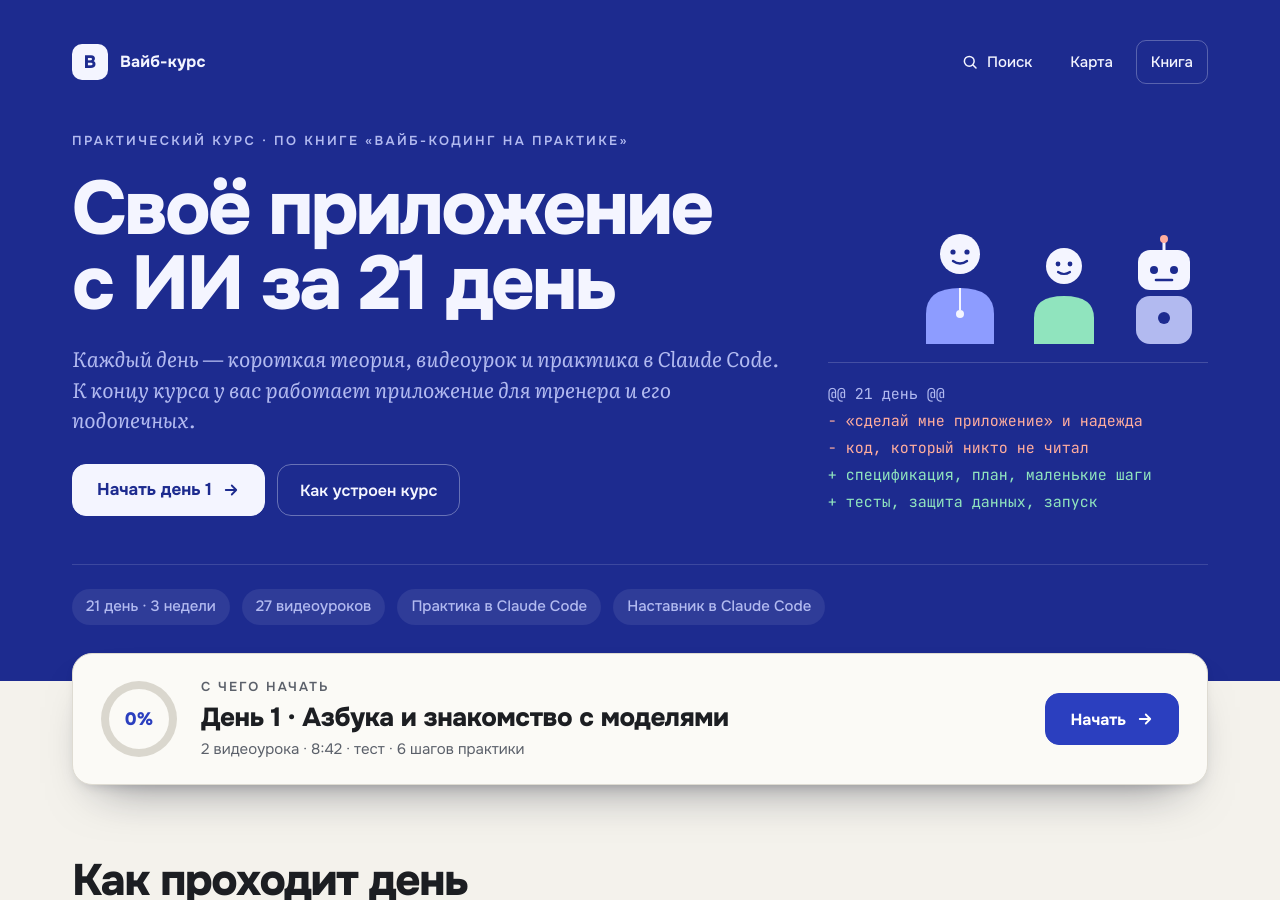
it: окно поиска: открытие и закрытие › «Закрыть» и клик по затемнению закрывают окно
Click the button "Поиск". click: (997, 62)
box: [946,40,1047,84]
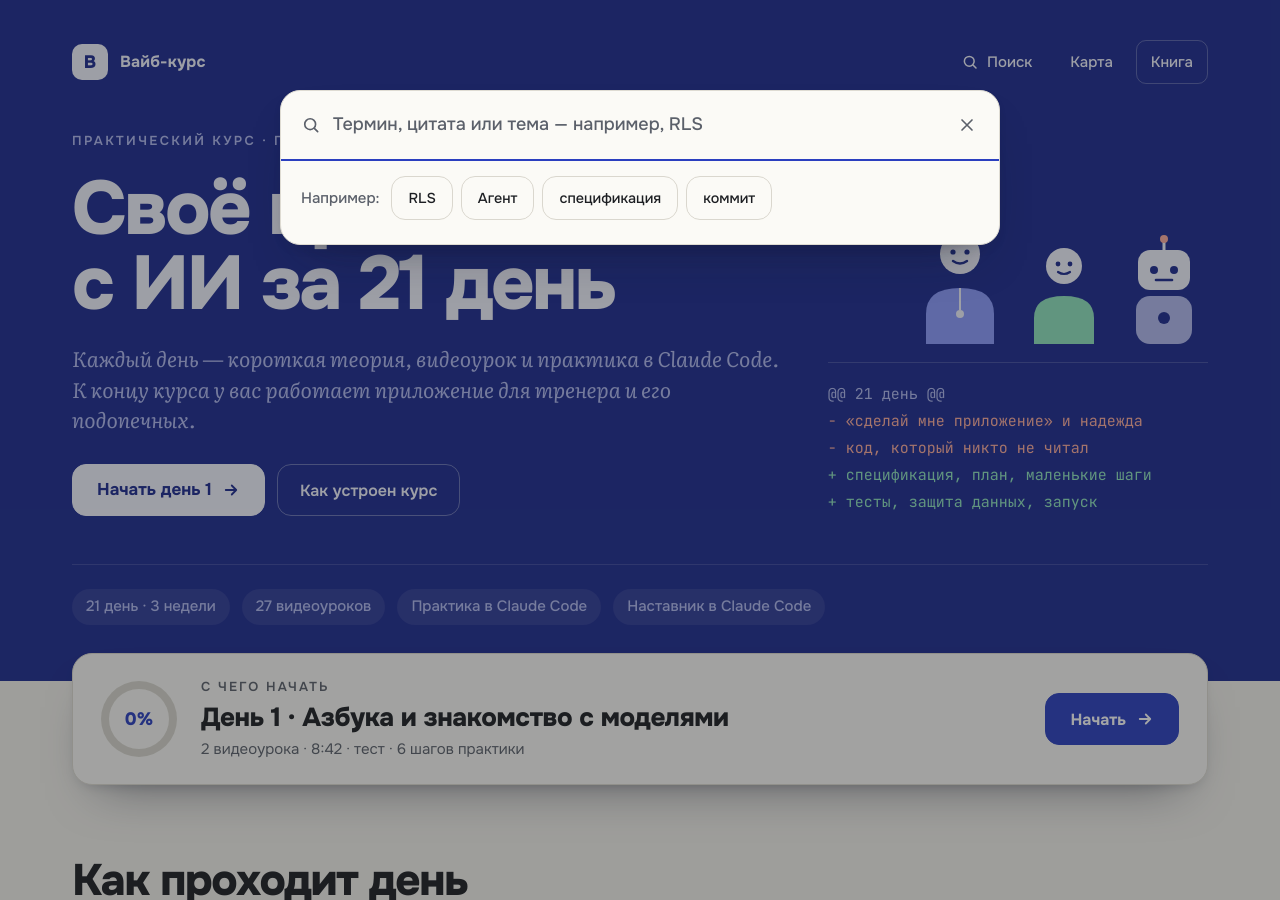
Click the button named "Закрыть". click: (967, 125)
box: [945,103,989,147]
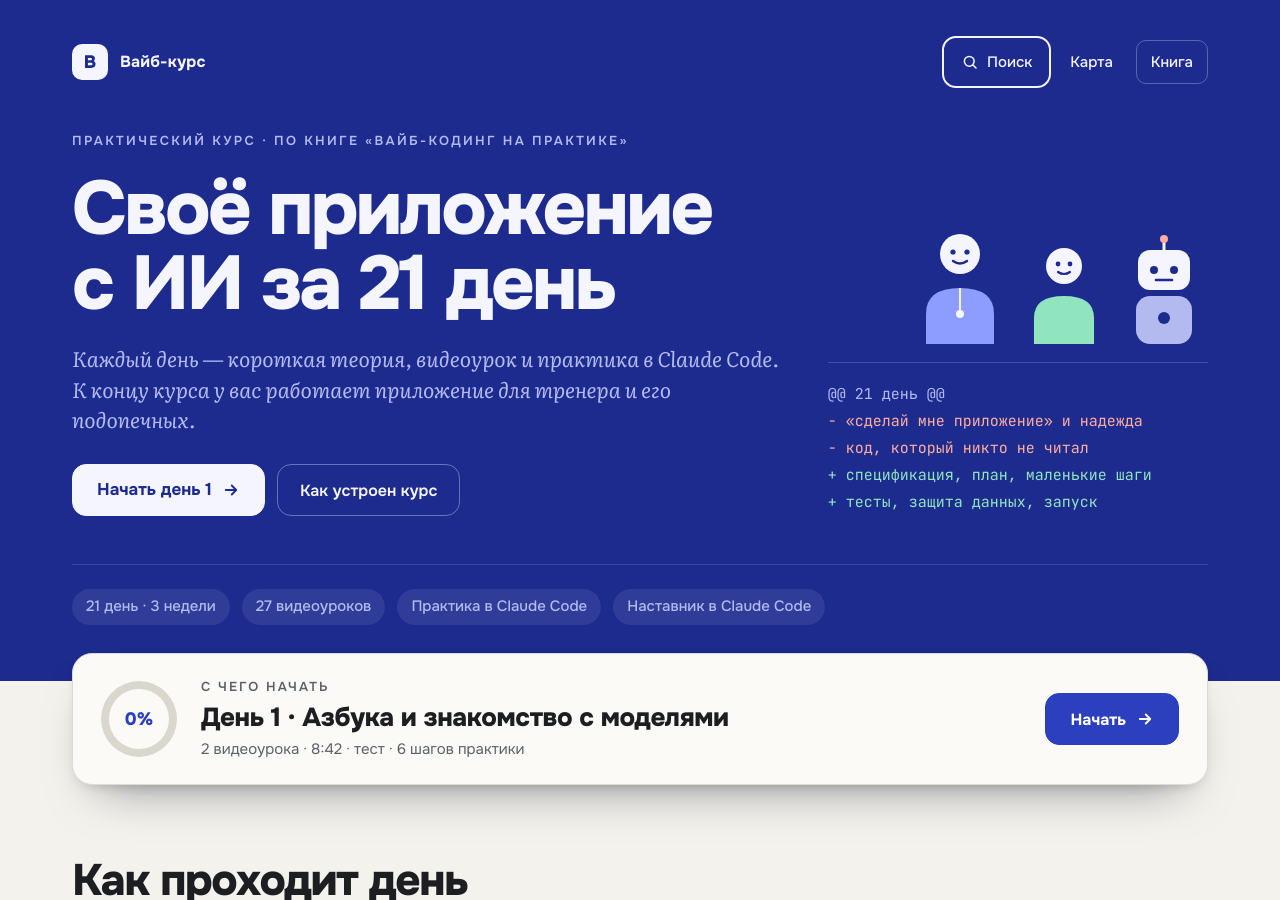
Result: the dialog is gone
Click the button "Поиск". click: (997, 62)
box: [946,40,1047,84]
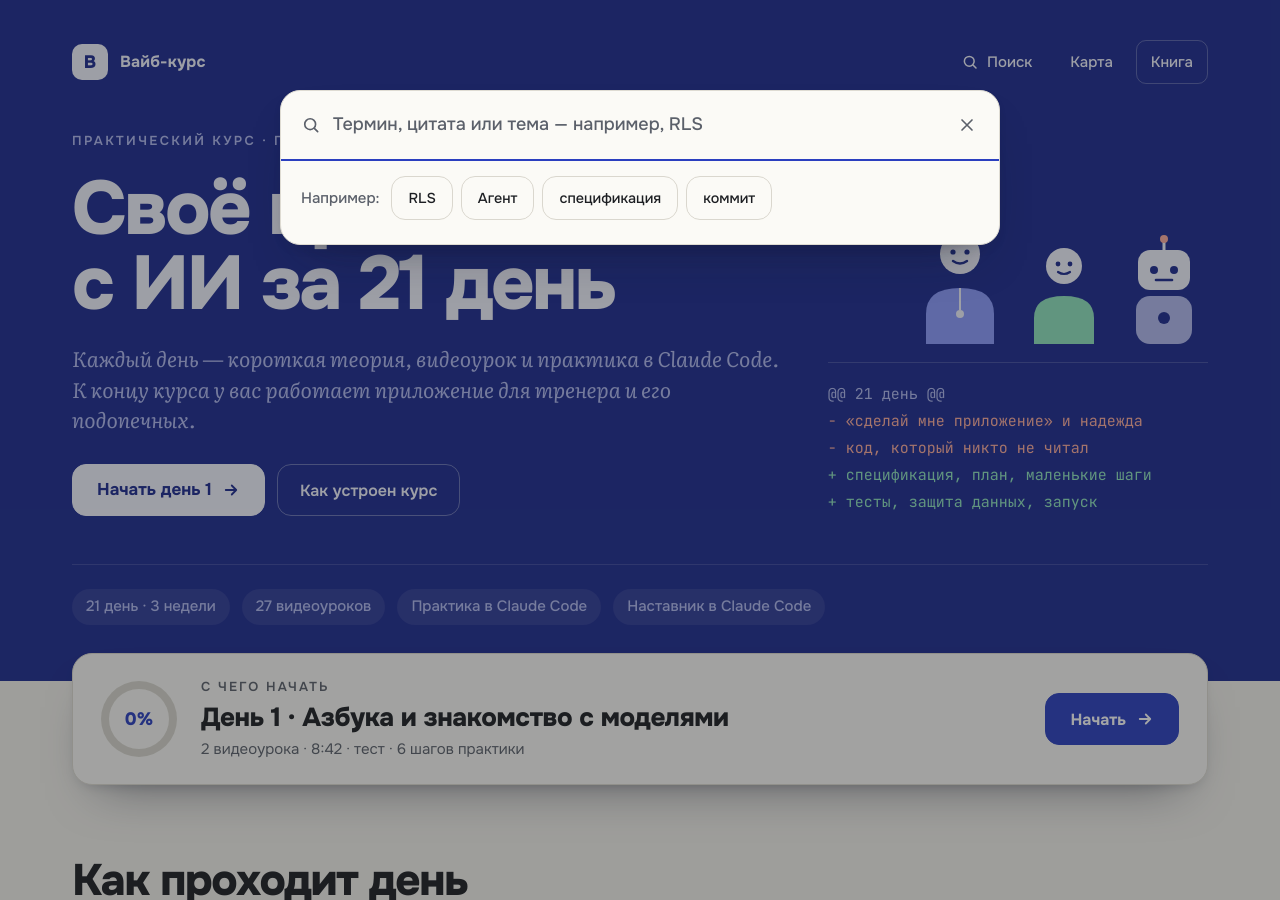
Click the element showing "Например: RLS Агент спецификация коммит". click: (640, 450)
box: [0,0,1279,899]
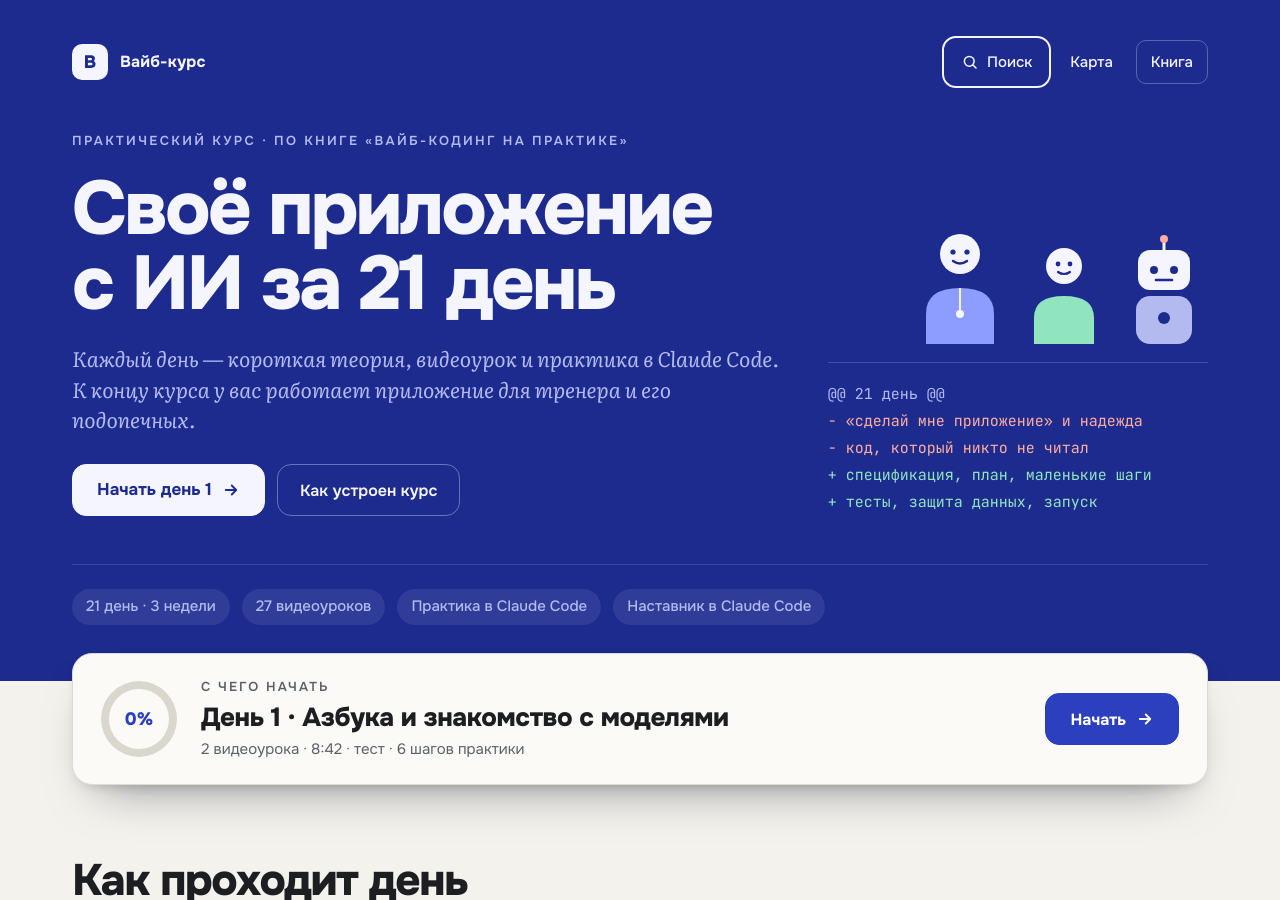
Result: the dialog is gone
